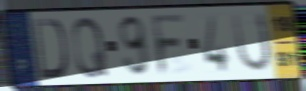4: (202, 12, 233, 75)
9: (116, 13, 152, 79)
D: (31, 17, 70, 80)
F: (149, 12, 188, 78)
Q: (70, 15, 110, 80)
U: (231, 10, 274, 75)
